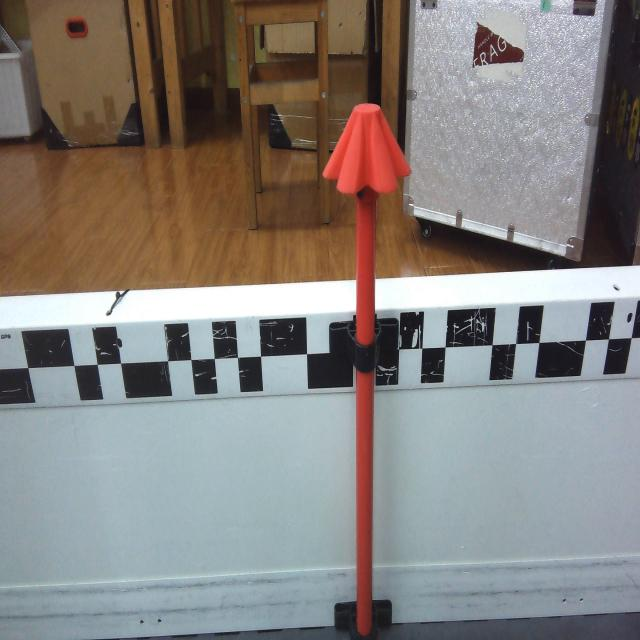zred-Stake-Head: (322, 103, 412, 193)
